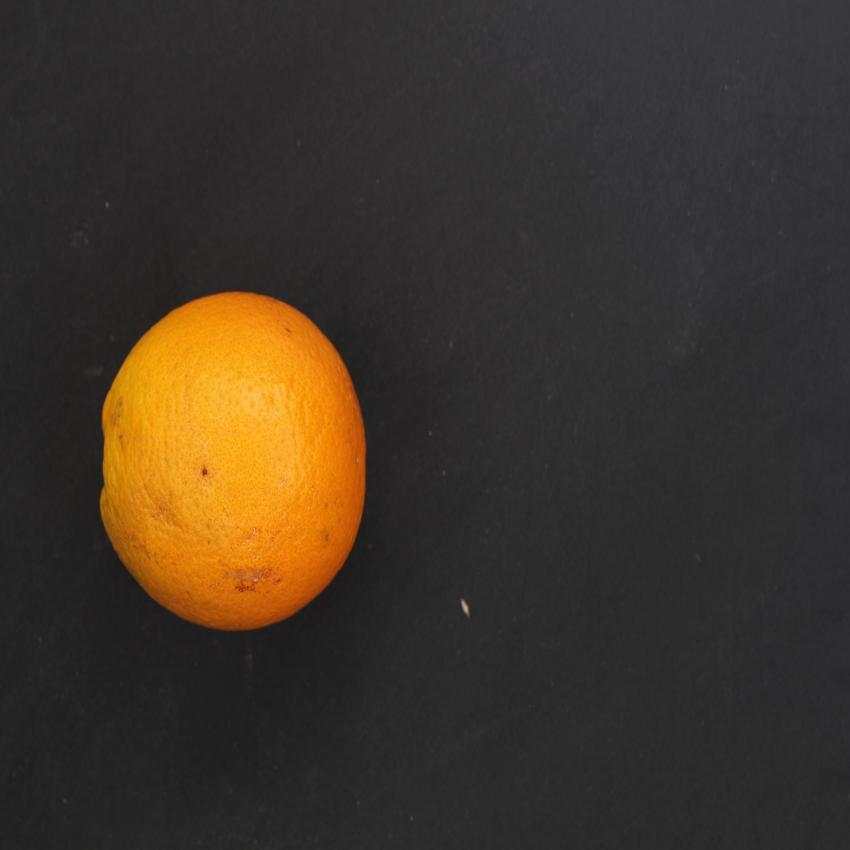Buen estado: (90, 276, 399, 659)
